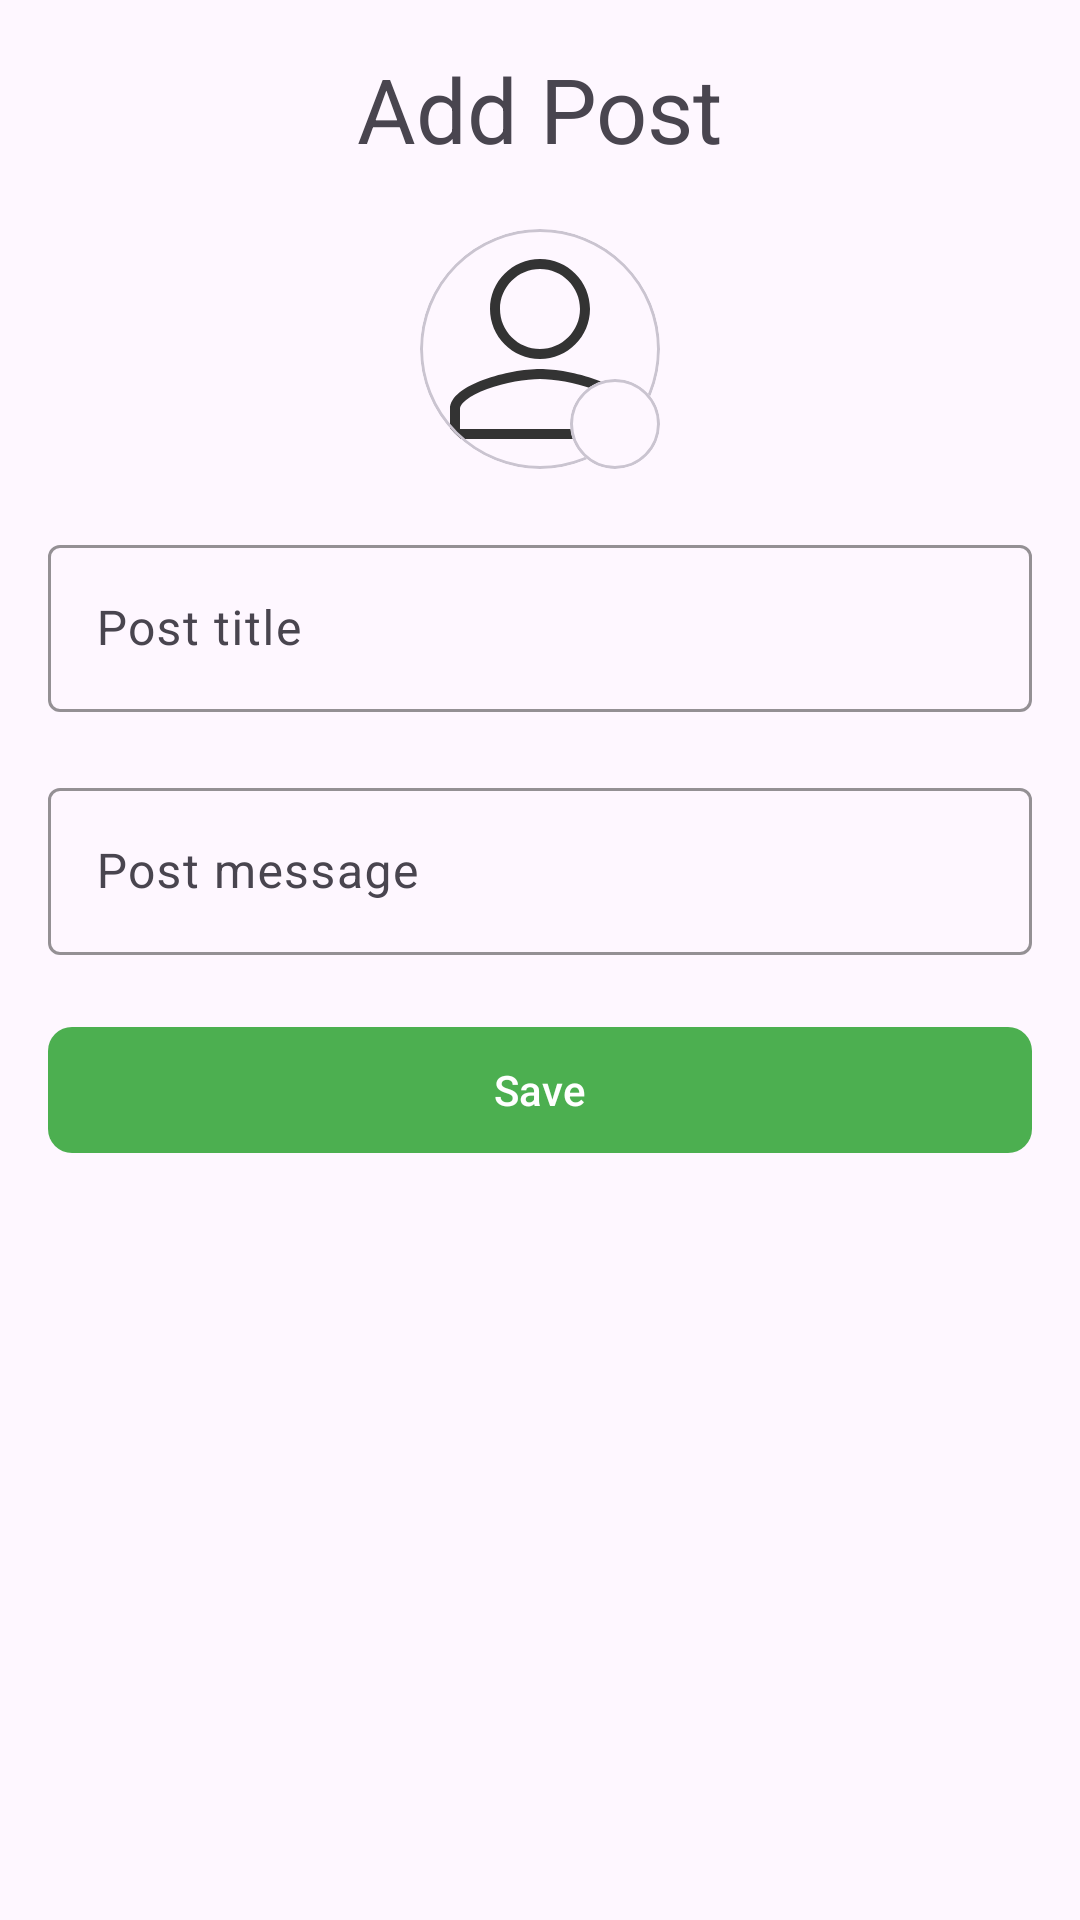

Locate icon controls on the screen. Image size 1080w x 1920h, boxes as (x1, y1, x2, y2).
user: (420, 229, 660, 469)
